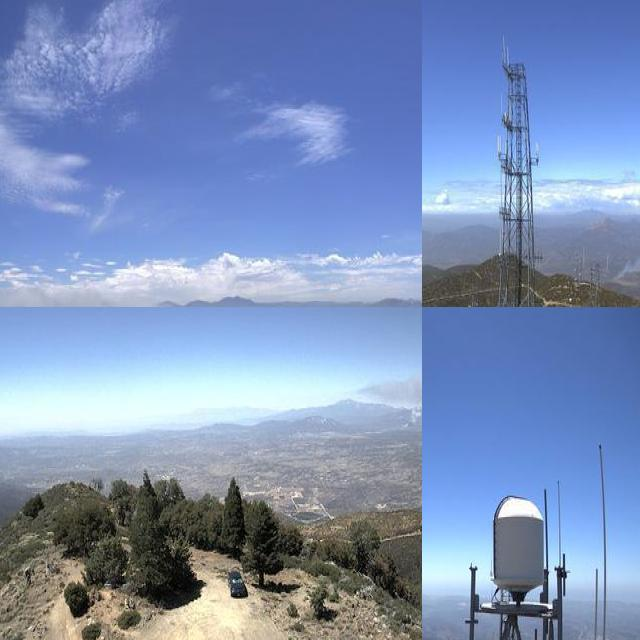smoke: (0, 274, 166, 307), (349, 366, 422, 429), (607, 225, 640, 284)
